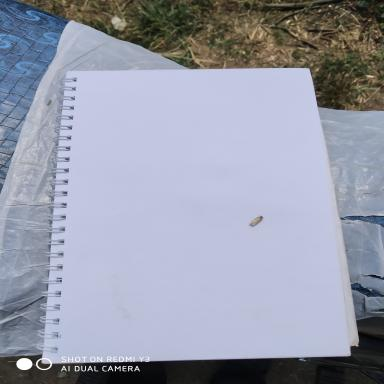pbw: (247, 215, 265, 227)
